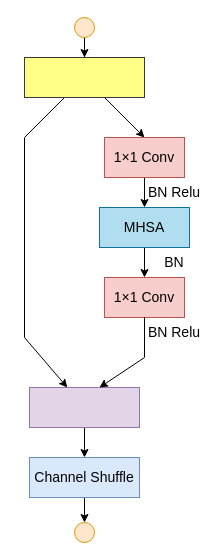
The diagram is 222 pixels wide and 560 high, and some of its shapes have lost their labels. Here are the shapes that lost their labels. From the top down, the centre of each, then its label:
the point at 84,77: Channel Split
the point at 84,407: Concat
